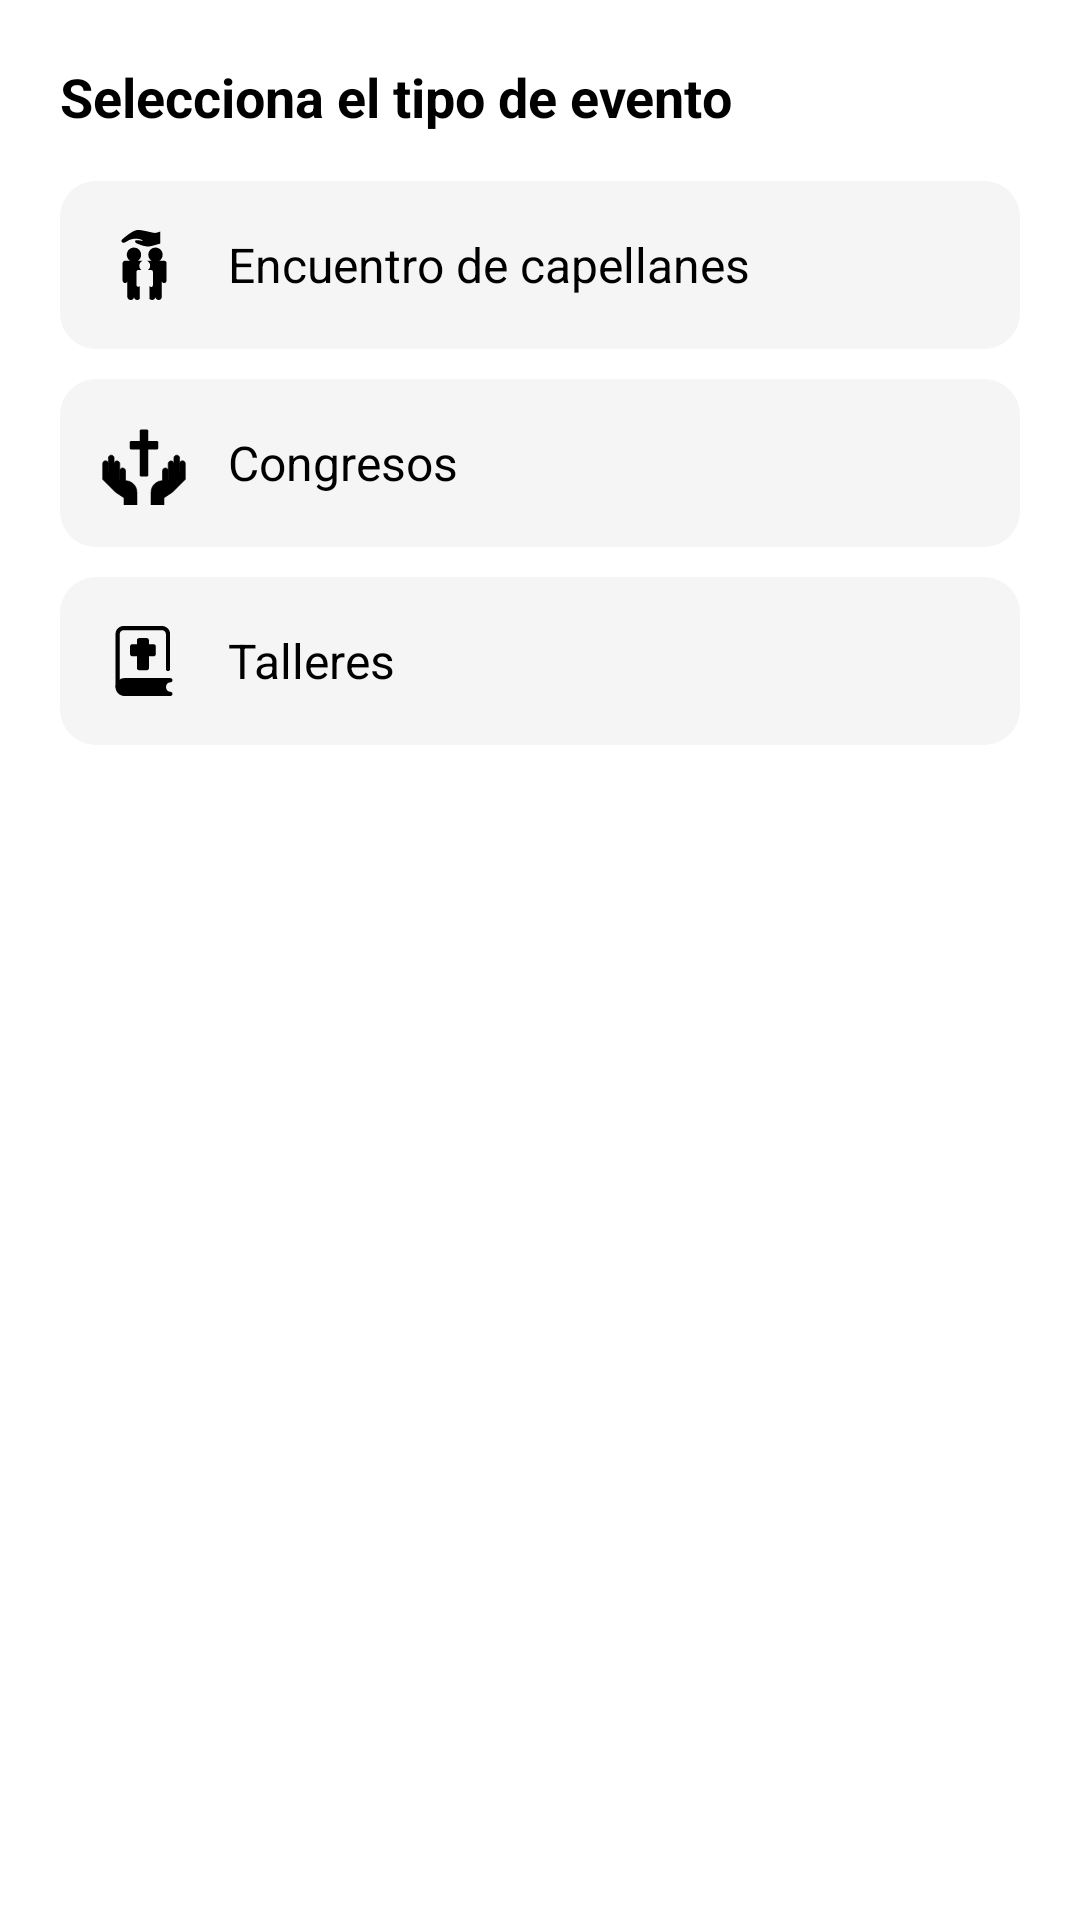

Named icons in this screenshot (1080*1920) and their bounding boxes, BBox(x1, y1, x2, y2):
familia: BBox(121, 230, 167, 300)
oracion: BBox(102, 429, 186, 505)
palabra: BBox(115, 626, 173, 696)
